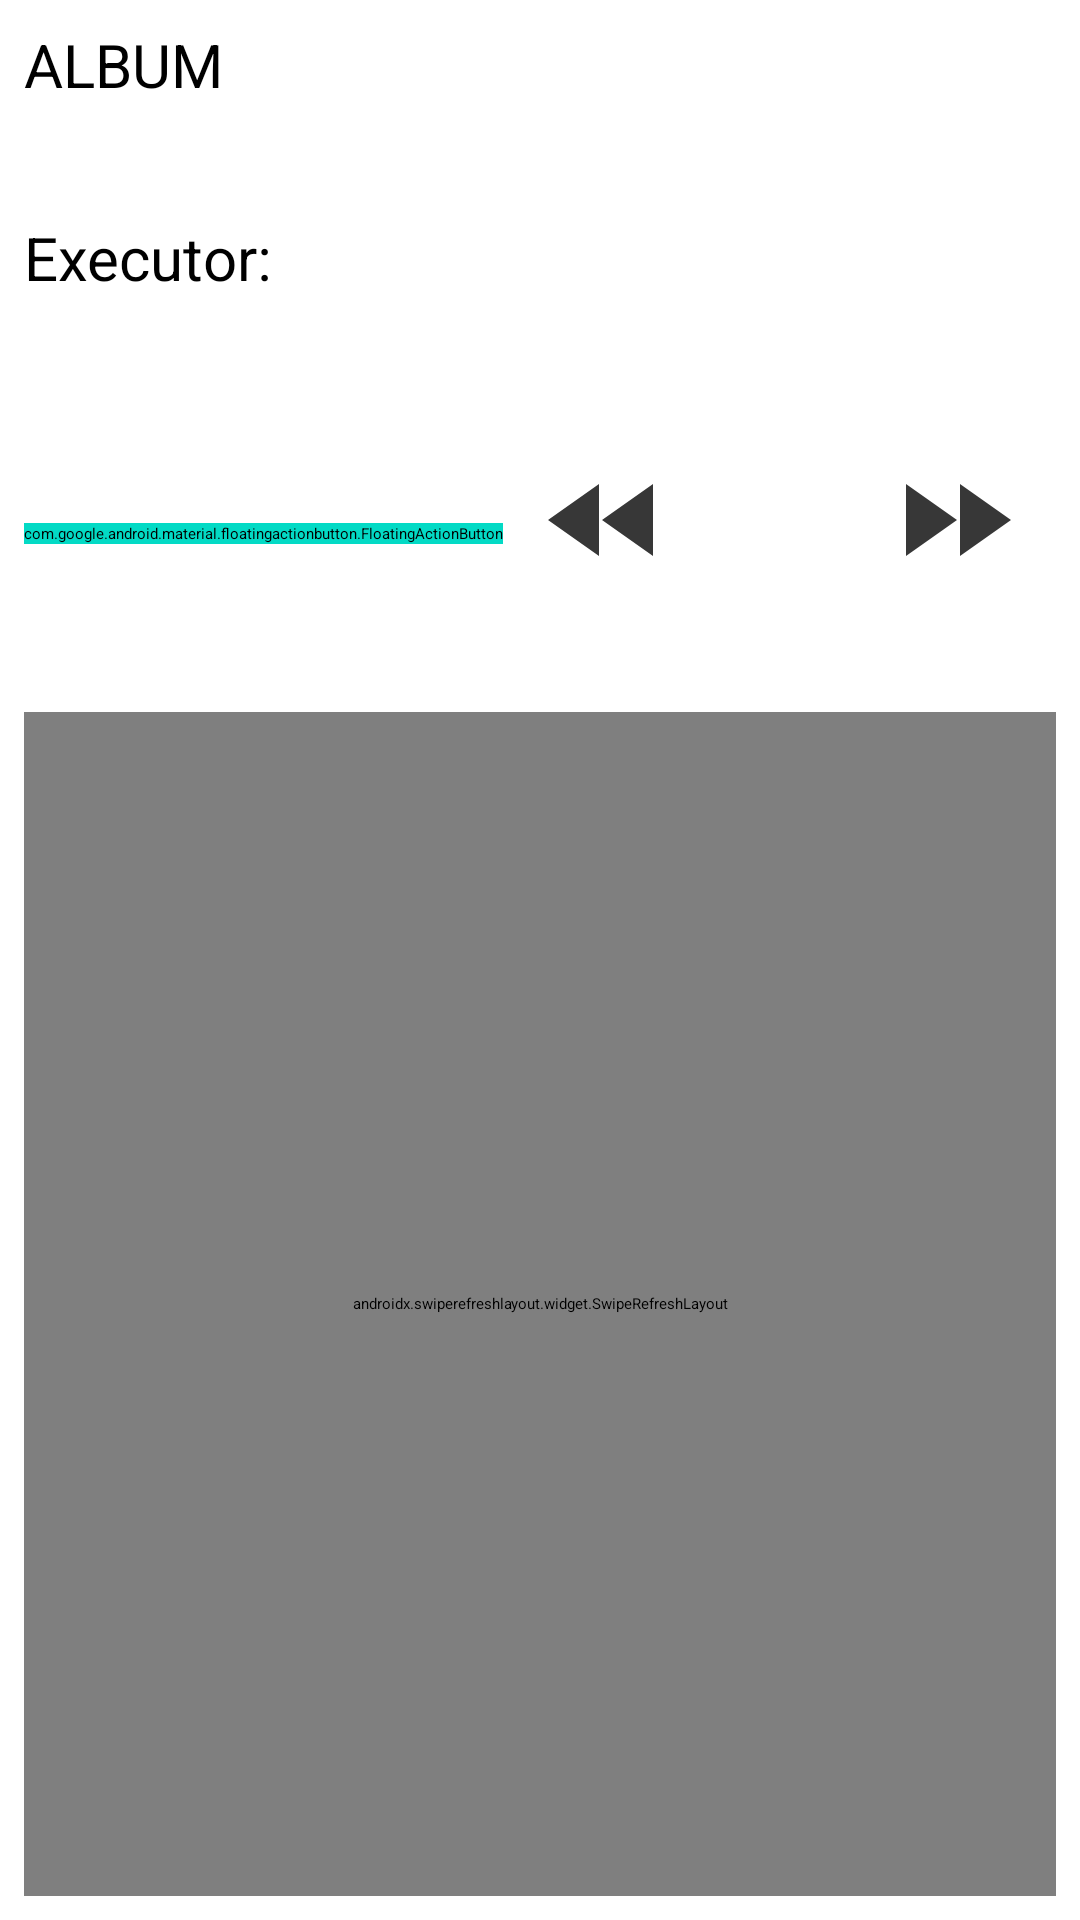

Icon click points for this 1080×1920 phone screenshot, format (x,y):
Next: (958,520)
Previous: (600,520)
